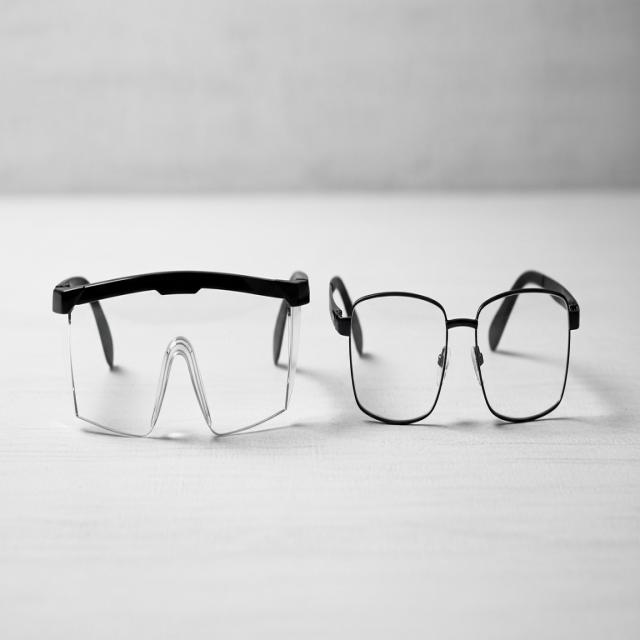oculos-epi: (52, 271, 310, 436)
sem_oculos: (330, 272, 579, 423)
